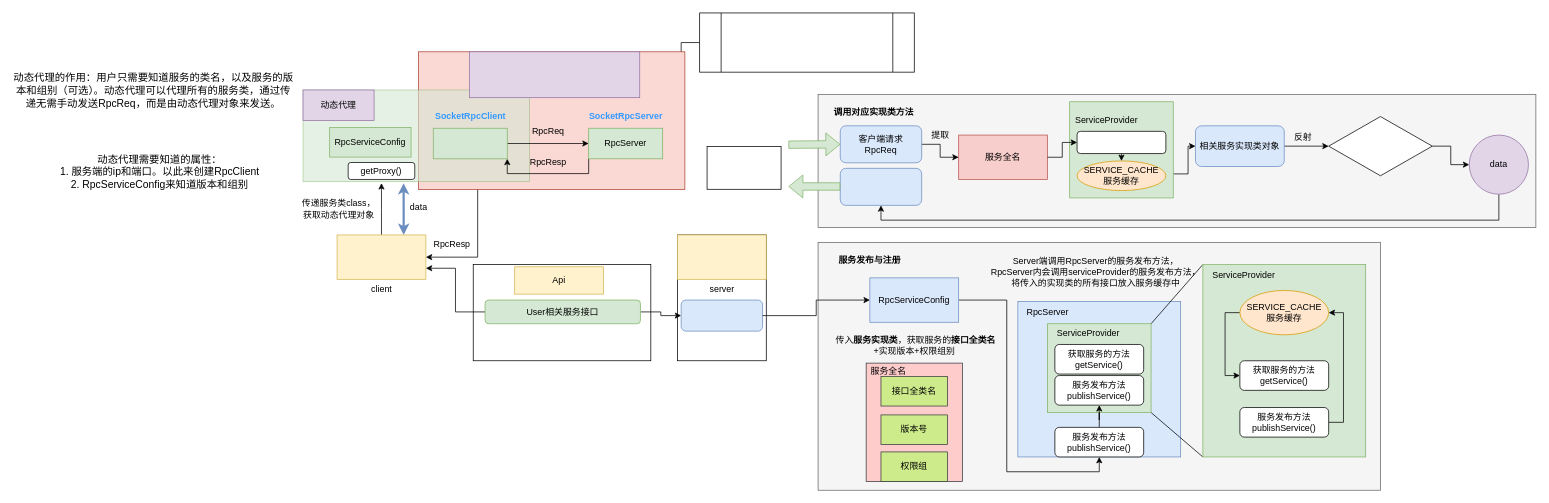
Some shapes in this 1549 by 503 pixel diagram are drawn without their labels. The centre of each missing label's shape, as x and y in pixels:
"1. 接收客户端的请求，并返回数据。 2. 处理客户端请求 3. 调用对应实现类方法，获取结果 4. 服务发布与注册" belongs at point 806,42.
"getService()" belongs at point 1121,142.
"RpcClient" belongs at point 470,143.
"RPC框架" belongs at point 554,74.
"User相关服务实现类" belongs at point 721,315.
"对应方法" belongs at point 1380,146.
"服务端" belongs at point 721,256.
"用户端" belongs at point 381,256.
"线程池" belongs at point 743,167.
"返回数据 RpcResp" belongs at point 881,186.
